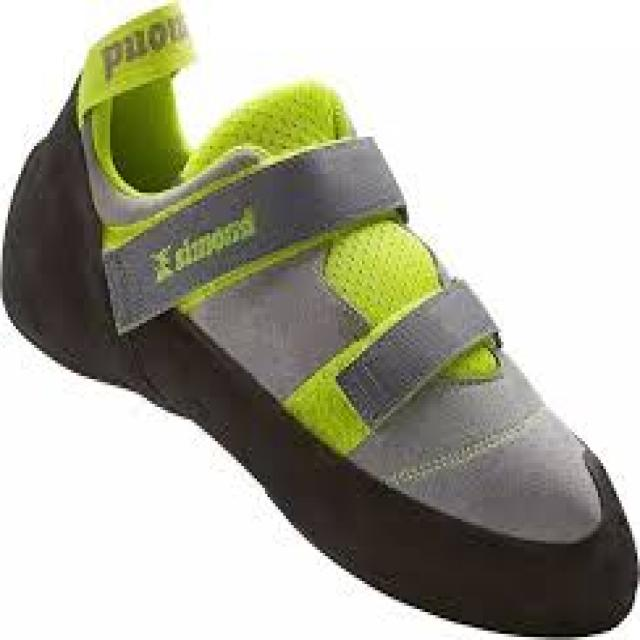climbing-shoes: (3, 6, 637, 638)
